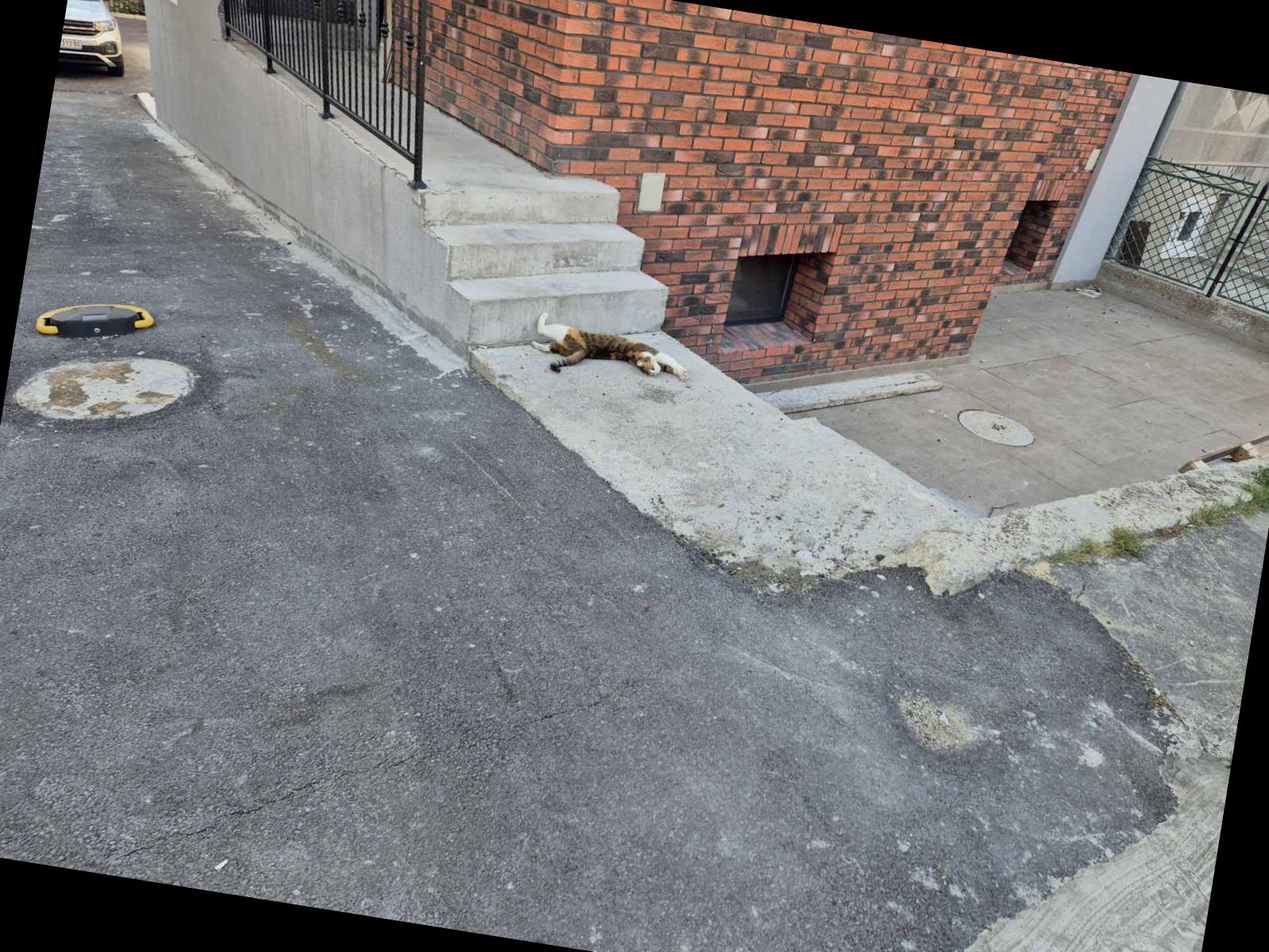macka: (527, 309, 695, 393)
